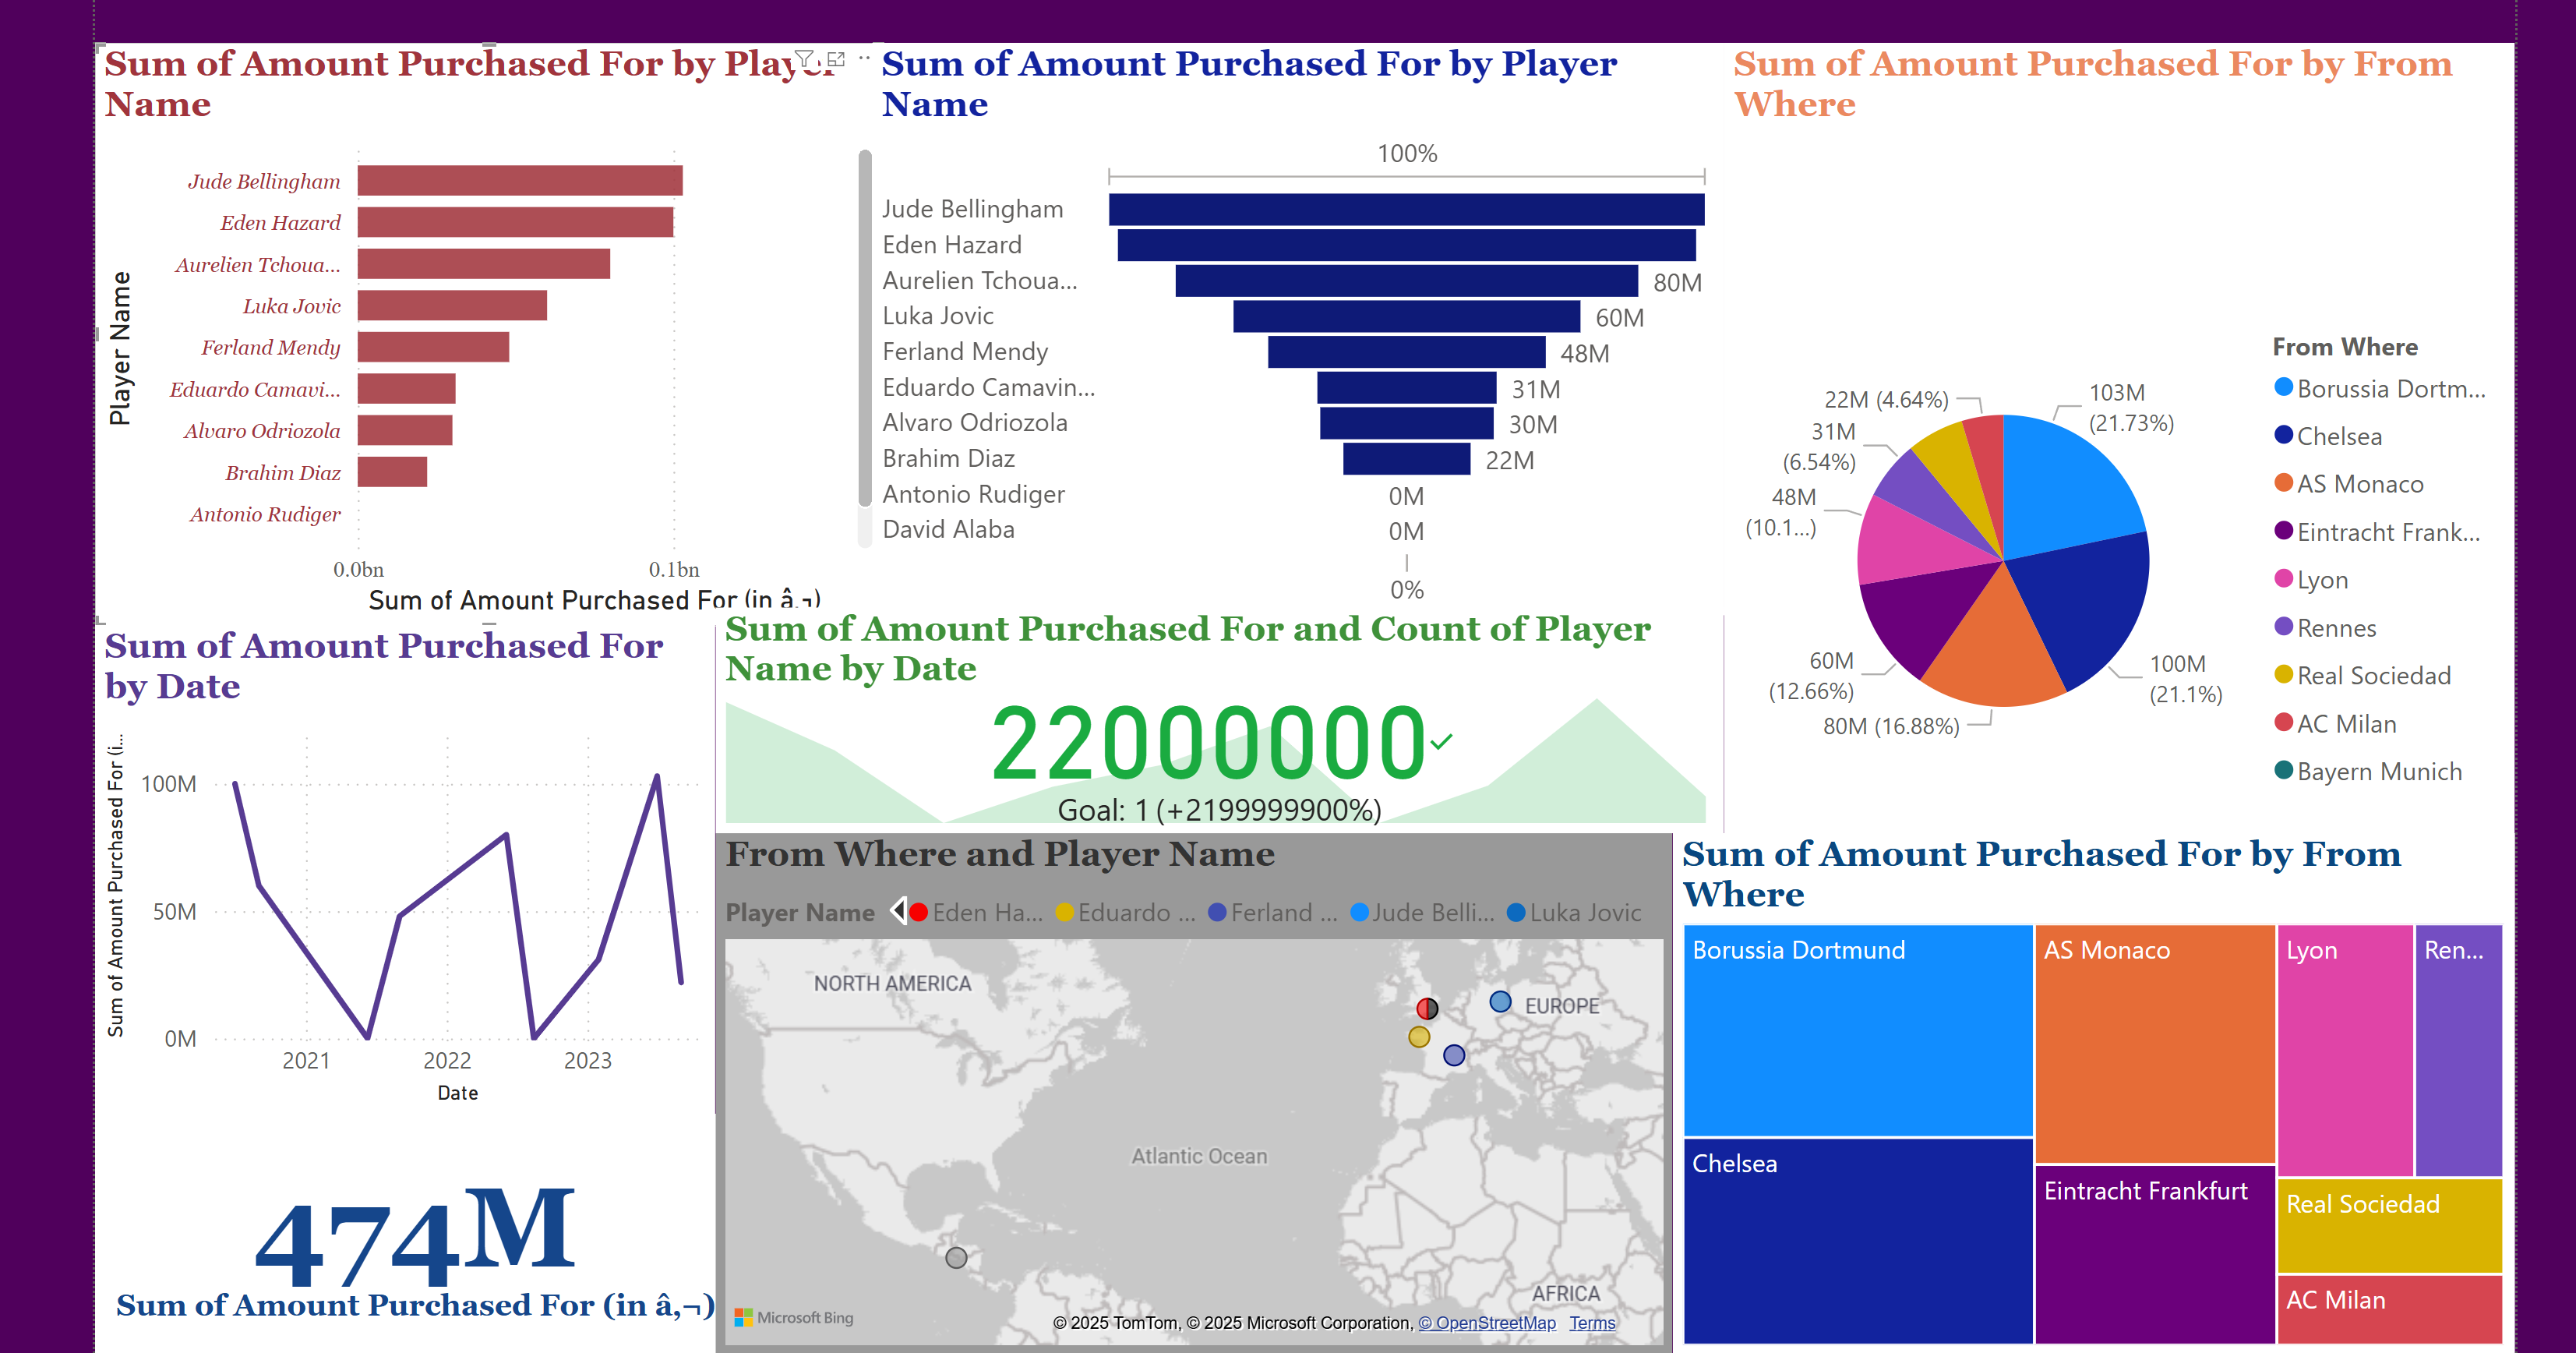

This screenshot's page, from the dashboard's own definition file:
{"tool":"powerbi","page":{"name":"Page 1","canvas":[1280,720],"ordinal":0},"visuals":[{"type":"clusteredBarChart","fields":{"Category":["Table.Player Name"],"Y":["Table.Amount Purchased For (in â‚¬)"]},"box":[0,26.2,421.1,314.6],"z":0},{"type":"pieChart","fields":{"Category":["Table.From Where"],"Y":["Table.Amount Purchased For (in â‚¬)"]},"box":[861.9,26.2,417.9,504.9],"z":1},{"type":"lineChart","fields":{"Category":["Table.Date"],"Y":["Table.Amount Purchased For (in â‚¬)"]},"box":[0,345.9,319.1,246.5],"z":2},{"type":"treemap","fields":{"Group":["Table.From Where"],"Values":["Table.Amount Purchased For (in â‚¬)"]},"box":[834.4,444,445.3,276],"z":3},{"type":"card","fields":{"Values":["Table.Amount Purchased For (in â‚¬)"]},"box":[0,592.5,319.1,127.5],"z":4},{"type":"map","fields":{"Category":["Table.From Where"],"Series":["Table.Player Name"]},"box":[393,345.9,319.1,247.2],"z":5}]}

Visuals, with their boxes in screenshot pixels (x1, y1, x2, y2):
clusteredBarChart - Table.Player Name x Table.Amount Purchased For (in â‚¬): <bbox>134, 42, 916, 626</bbox>
pieChart - Table.From Where x Table.Amount Purchased For (in â‚¬): <bbox>1734, 42, 2510, 979</bbox>
lineChart - Table.Date x Table.Amount Purchased For (in â‚¬): <bbox>134, 635, 726, 1093</bbox>
treemap - Table.From Where x Table.Amount Purchased For (in â‚¬): <bbox>1683, 818, 2509, 1330</bbox>
card - Table.Amount Purchased For (in â‚¬): <bbox>134, 1093, 726, 1330</bbox>
map - Table.From Where x Table.Player Name: <bbox>863, 635, 1456, 1094</bbox>
